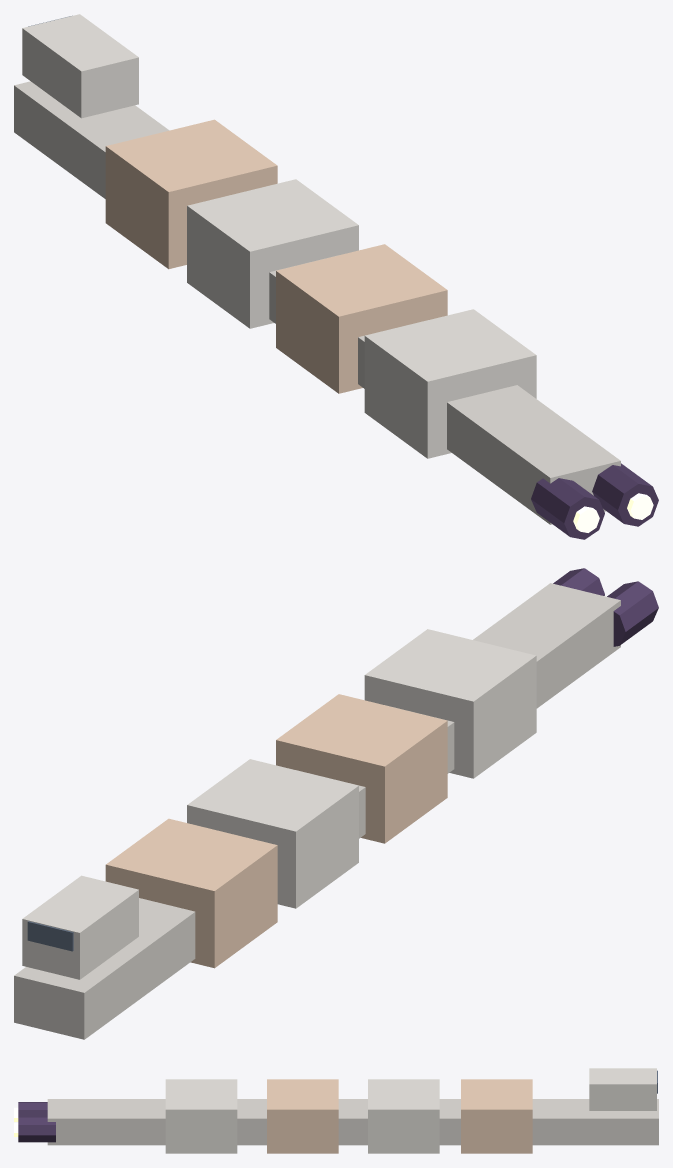
Rendered from freighter.glb.
3 views of the same model, one above another, from view 1: azimuth 30°, elevation 25°; view 2: azimuth 150°, elevation 25°; view 3: azimuth 270°, elevation 25° (orthographic). The views are drawn at different scales.
Parts seen in each view (by area): view 1: Freighter; view 2: Freighter; view 3: Freighter.
Part boxes in pixels (x1,y1,x2,y2): Freighter: (14, 14, 658, 539); Freighter: (14, 568, 658, 1039); Freighter: (14, 1068, 658, 1153).
Size of the model in its own units: 1.7 by 1.62 by 15.3.
